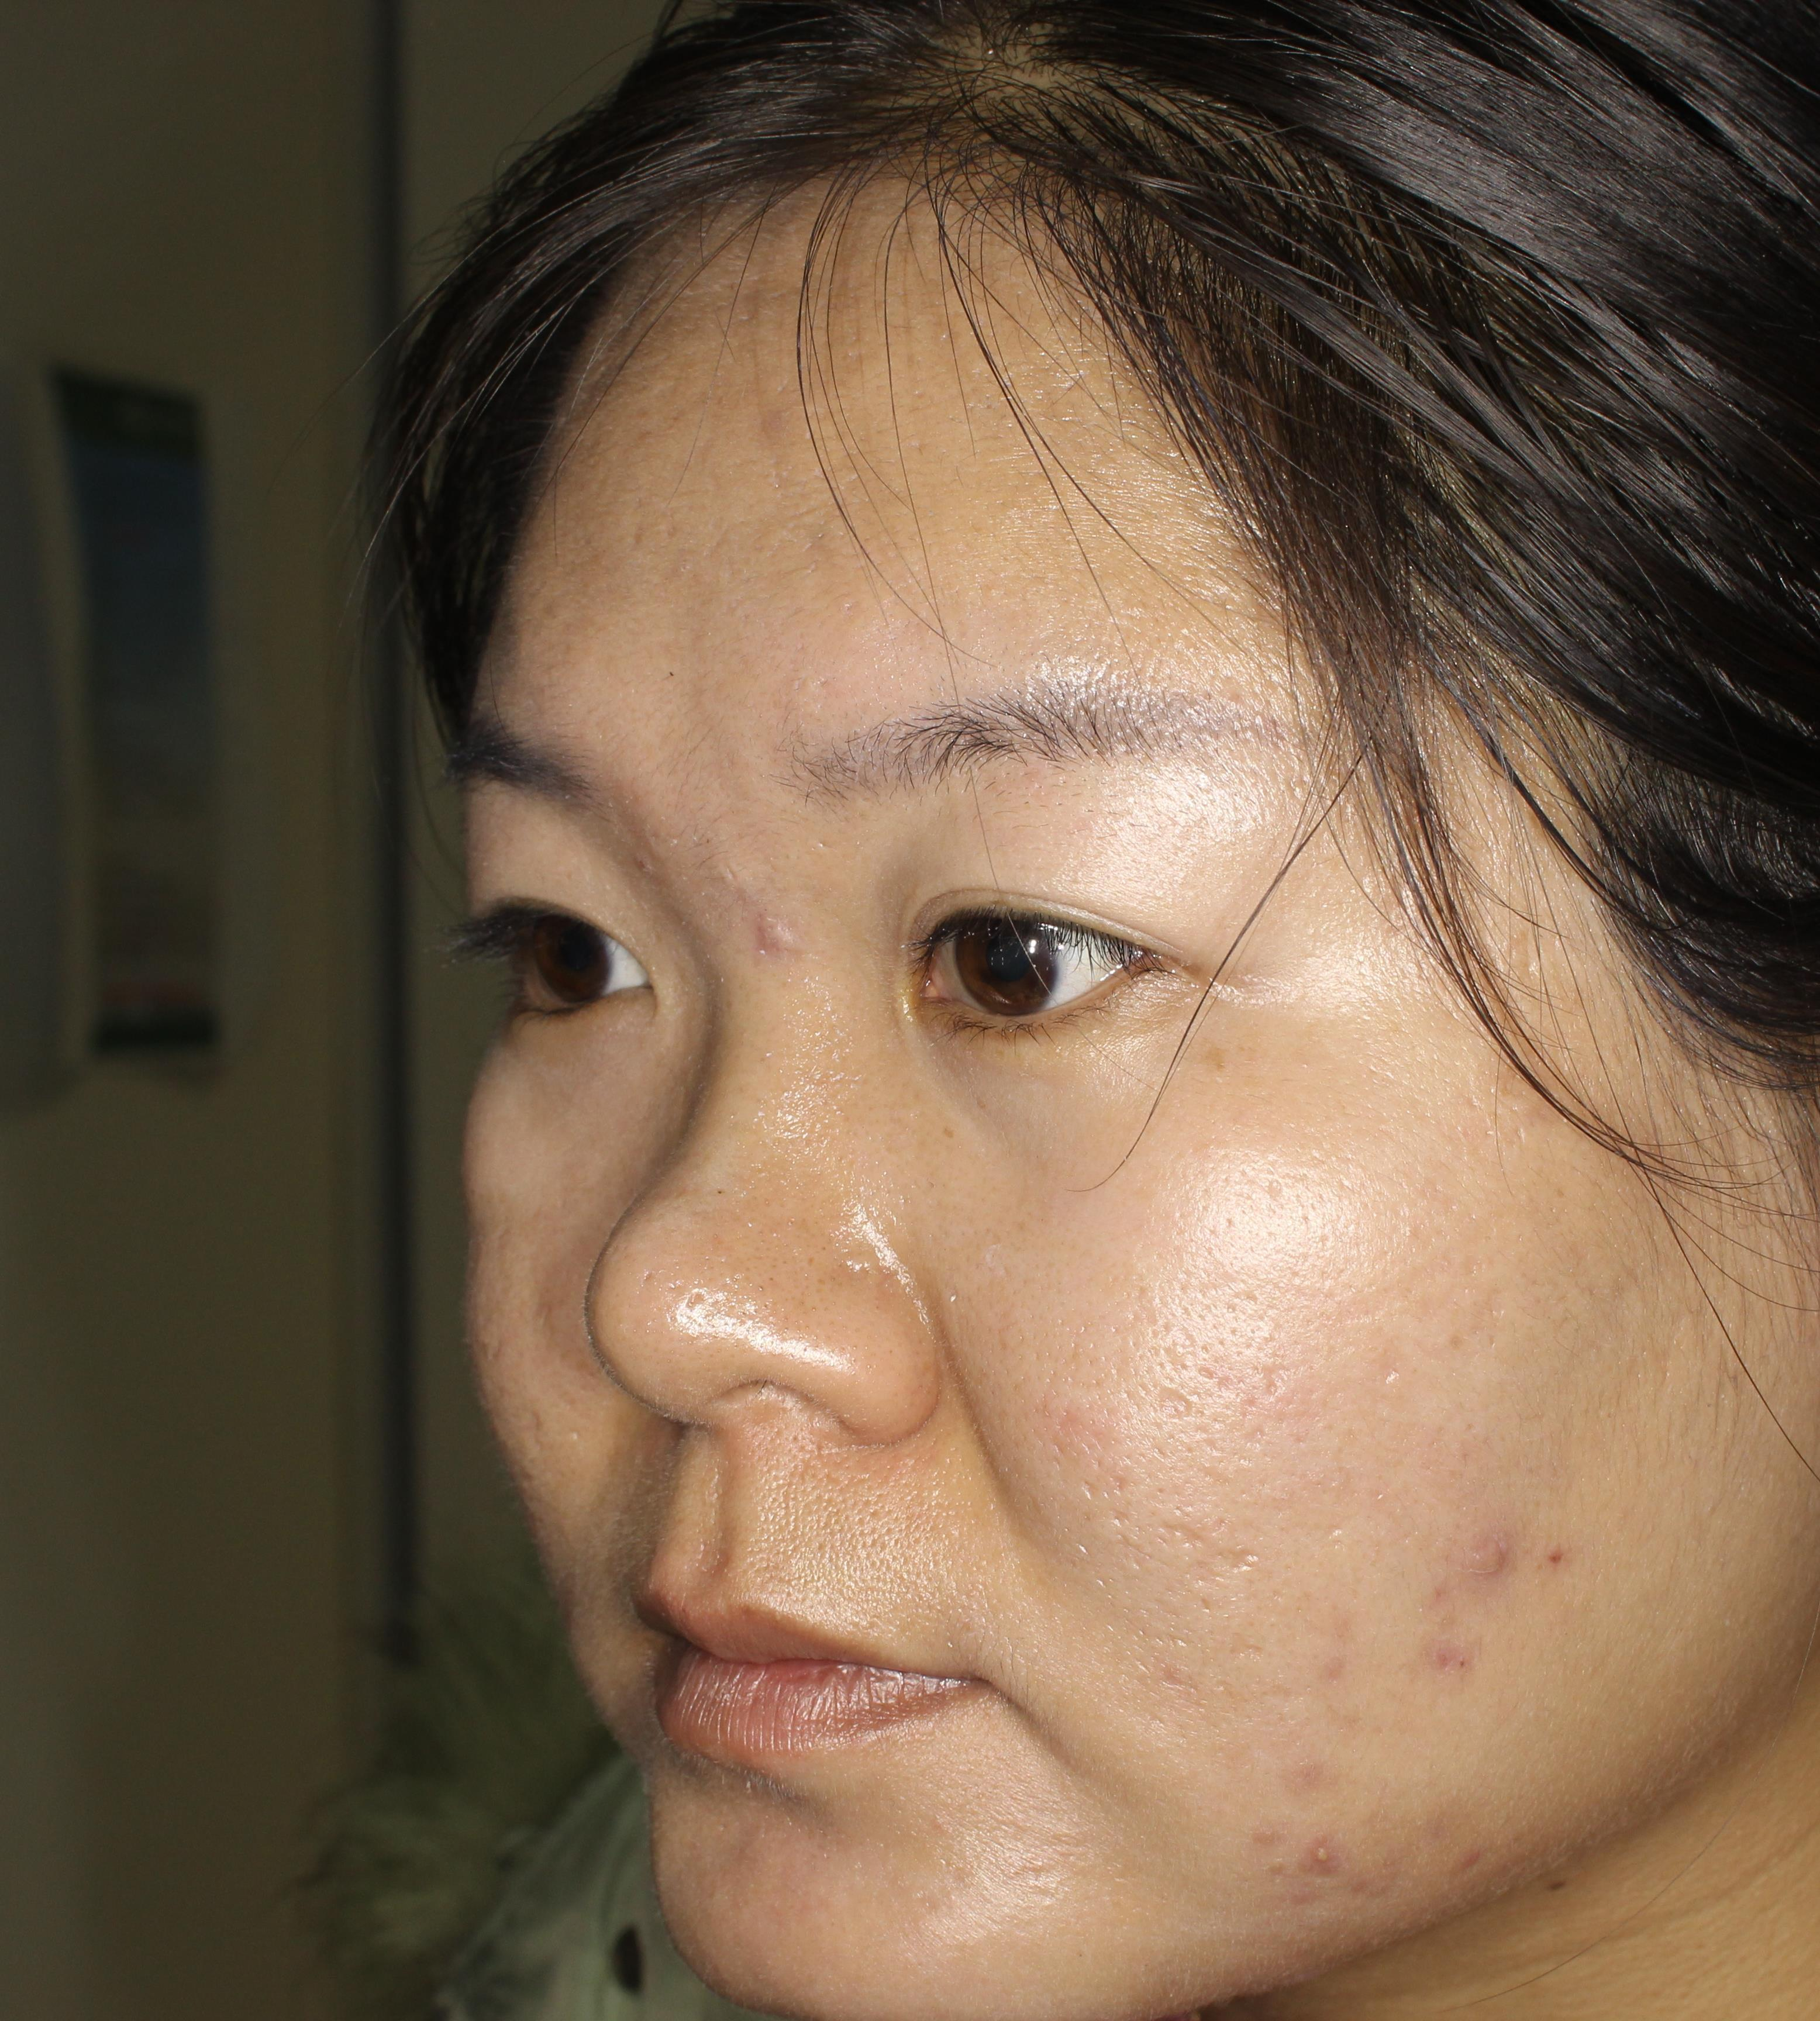fore: (1418, 1800, 1499, 1907), (1409, 1621, 1502, 1701), (1449, 1531, 1539, 1608), (754, 895, 820, 997), (1288, 1737, 1354, 1791), (1296, 1826, 1346, 1881)
